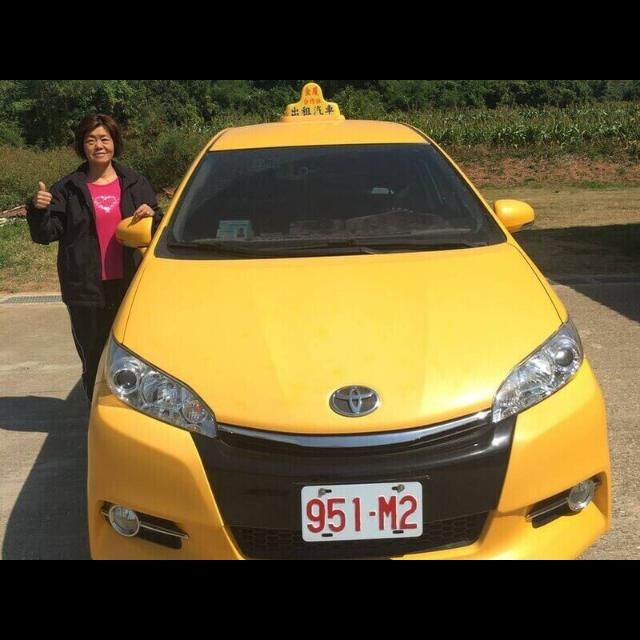plate: (302, 481, 422, 542)
